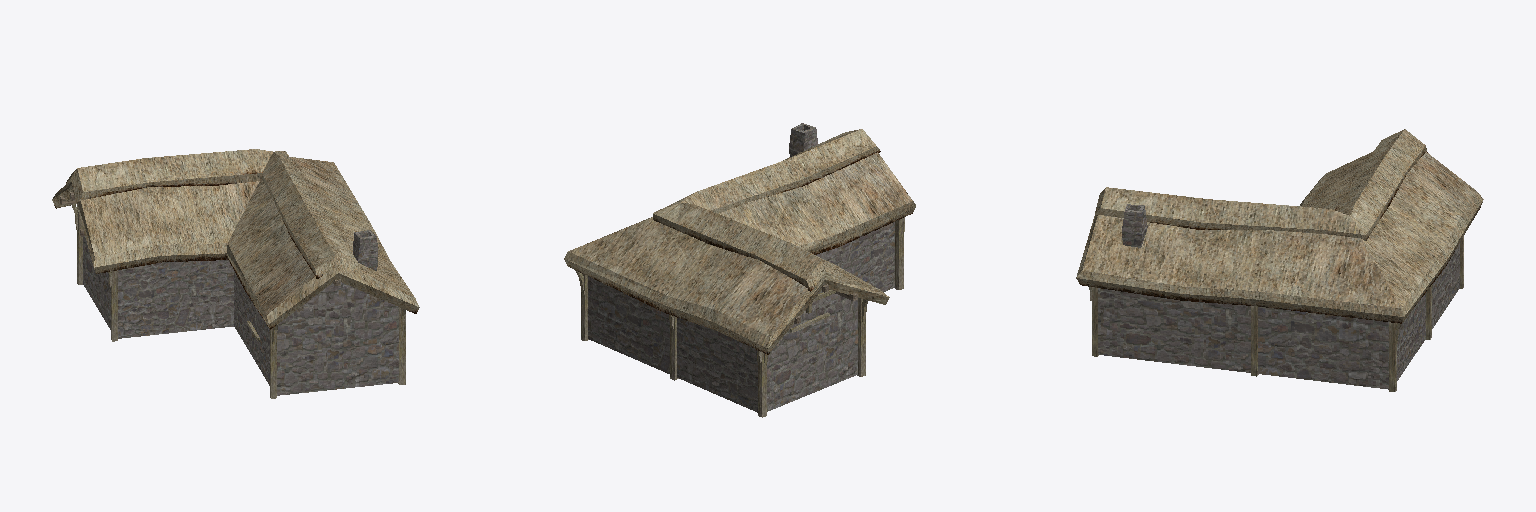
3 views of the same model, side by side, from view 1: azimuth 30°, elevation 25°; view 2: azimuth 150°, elevation 25°; view 3: azimuth 270°, elevation 25° (orthographic).
Visible parts, largest first — view 1: Cube.004_Cube.005; view 2: Cube.004_Cube.005; view 3: Cube.004_Cube.005.
Boxes of the visible parts, box(x1,y1,x2,y2) form: Cube.004_Cube.005: box(52, 149, 419, 398); Cube.004_Cube.005: box(564, 123, 915, 417); Cube.004_Cube.005: box(1076, 129, 1483, 391).
Size of the model in its own units: 14.9 by 7.34 by 18.52.
1 materials, 1 textured.